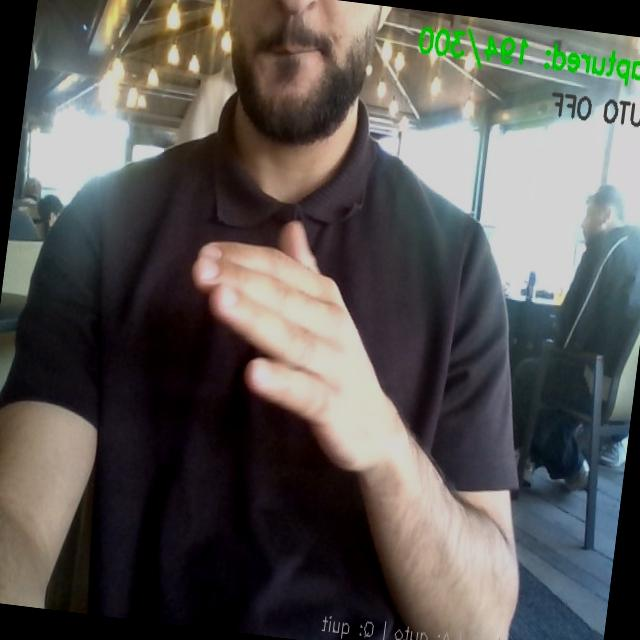Hand: (192, 222, 407, 472)
